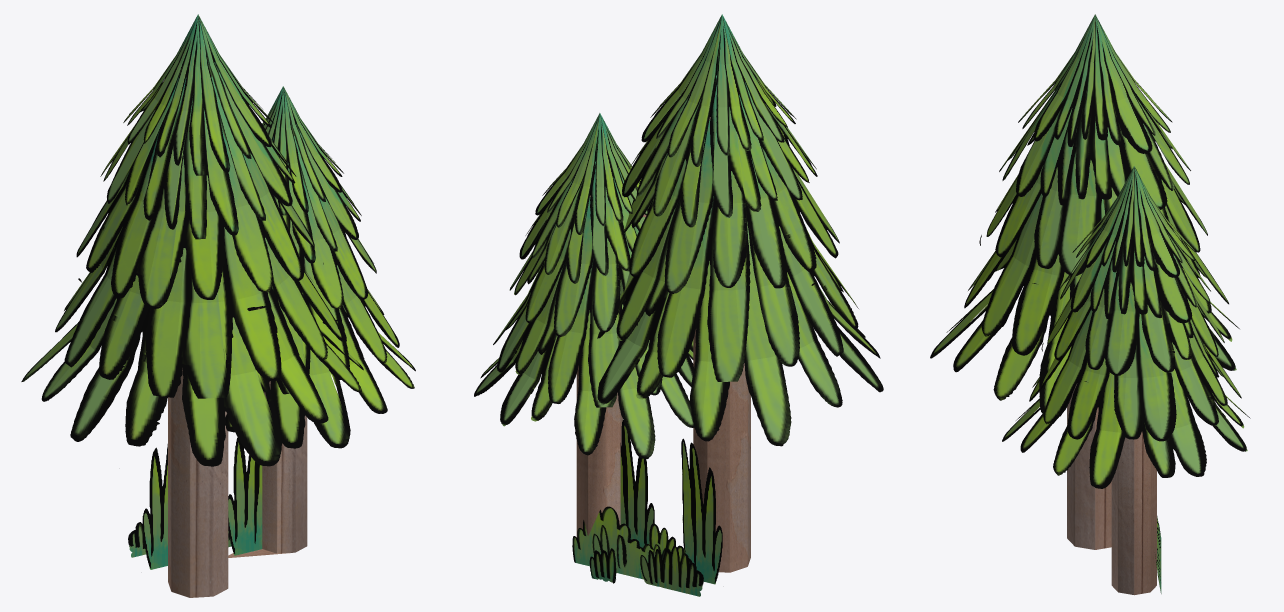
The model's file is FOREST_WALL_1.obj.
3 renders of one model, left to right at view 1: azimuth 30°, elevation 25°; view 2: azimuth 150°, elevation 25°; view 3: azimuth 270°, elevation 25°, orthographic. The views are drawn at different scales.
Visible parts, largest first — view 1: FOREST_WALL_1.004; view 2: FOREST_WALL_1.004; view 3: FOREST_WALL_1.004.
Boxes of the visible parts, x1,y1,x2,y2 form: FOREST_WALL_1.004: [21, 14, 415, 597]; FOREST_WALL_1.004: [474, 14, 883, 596]; FOREST_WALL_1.004: [930, 14, 1250, 595].
Size of the model in its own units: 3.41 by 4.77 by 2.81.
